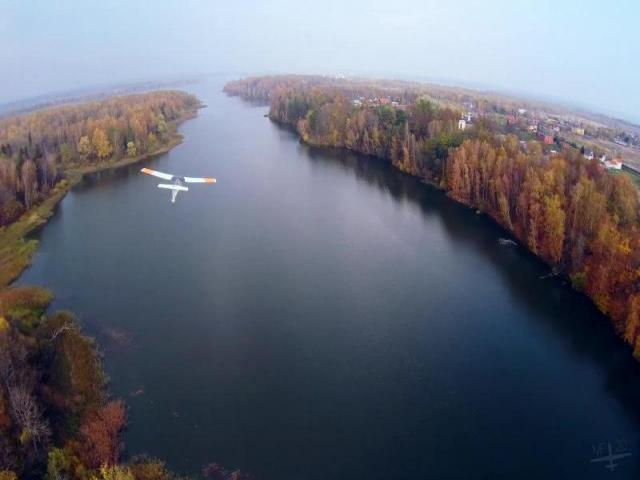hedef: (132, 163, 224, 207)
